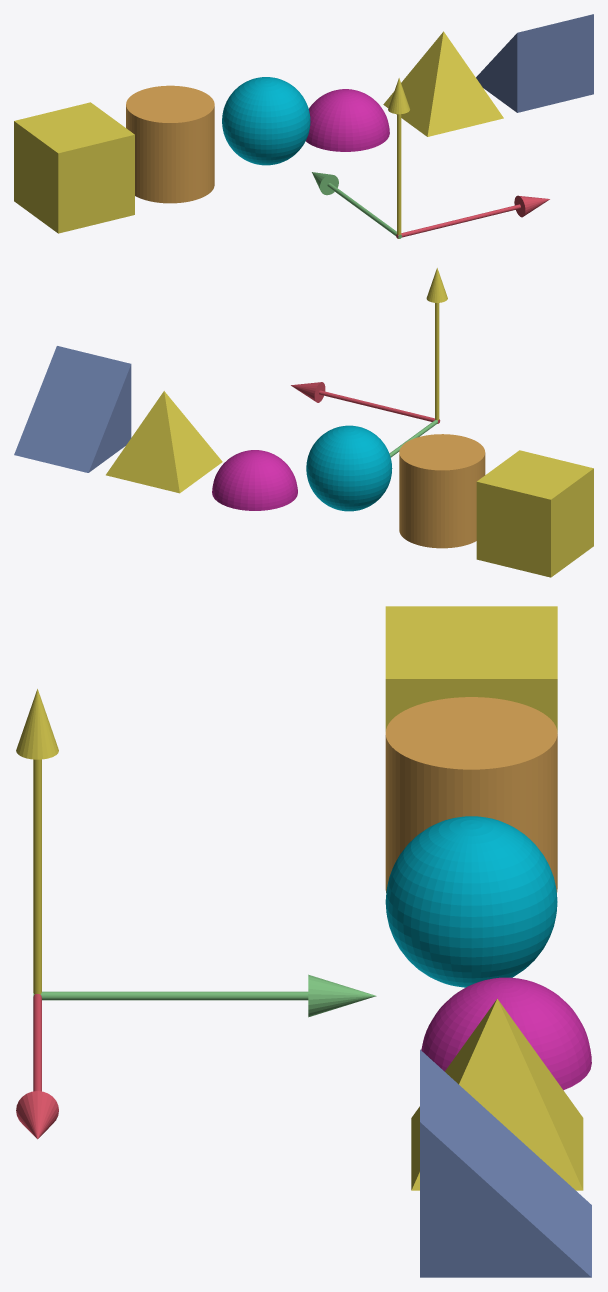
Rendered from Blocksworld 2 blocks 2.glb.
3 renders of one model, top to bottom at view 1: azimuth 30°, elevation 25°; view 2: azimuth 150°, elevation 25°; view 3: azimuth 270°, elevation 25°, orthographic. The views are drawn at different scales.
Visible parts, largest first — view 1: Mesh_Mesh_head_geo.001_lambert2SG.001; view 2: Mesh_Mesh_head_geo.001_lambert2SG.001; view 3: Mesh_Mesh_head_geo.001_lambert2SG.001.
Part boxes in pixels (x1,y1,x2,y2): Mesh_Mesh_head_geo.001_lambert2SG.001: [14, 14, 593, 238]; Mesh_Mesh_head_geo.001_lambert2SG.001: [14, 268, 593, 577]; Mesh_Mesh_head_geo.001_lambert2SG.001: [16, 606, 591, 1277].
Bounding box in the file's own units: 142 × 42 × 67.
